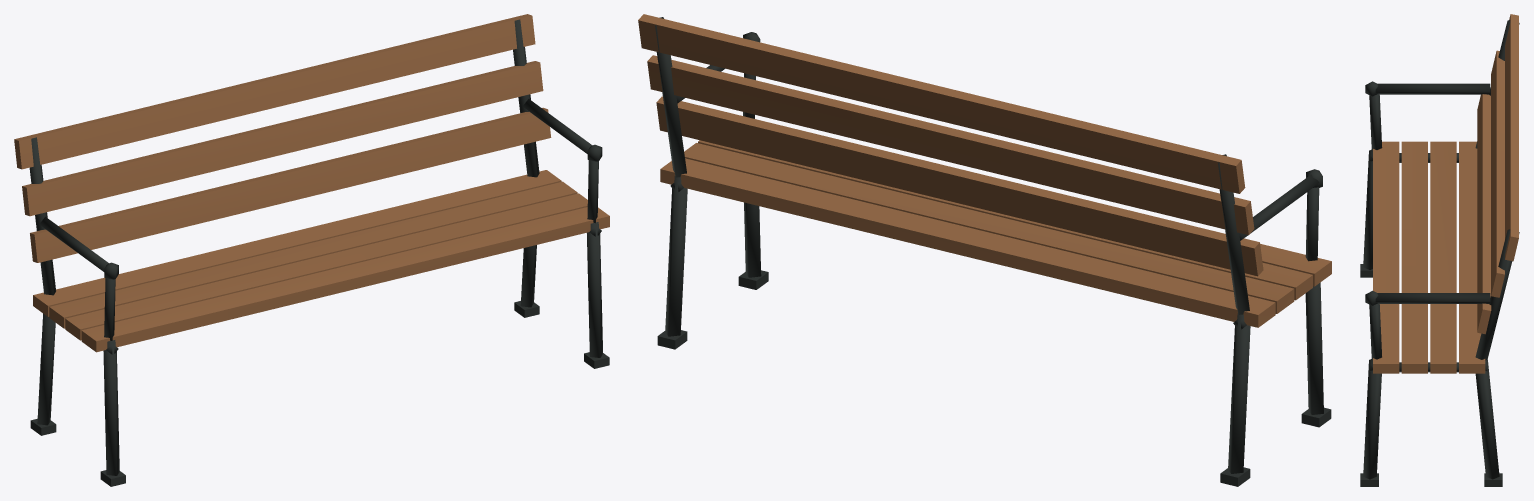
File: bench.far.glb
3 views of the same model, side by side, from view 1: azimuth 30°, elevation 25°; view 2: azimuth 150°, elevation 25°; view 3: azimuth 270°, elevation 25° (orthographic). The views are drawn at different scales.
Parts seen in each view (by area): view 1: bench; view 2: bench; view 3: bench.
Part boxes in pixels (x1=…): bench: x1=14, y1=14, x2=609, y2=486; bench: x1=638, y1=14, x2=1331, y2=486; bench: x1=1360, y1=14, x2=1519, y2=486.
Bounding box in the file's own units: 1.7 × 0.9065 × 0.5145.
